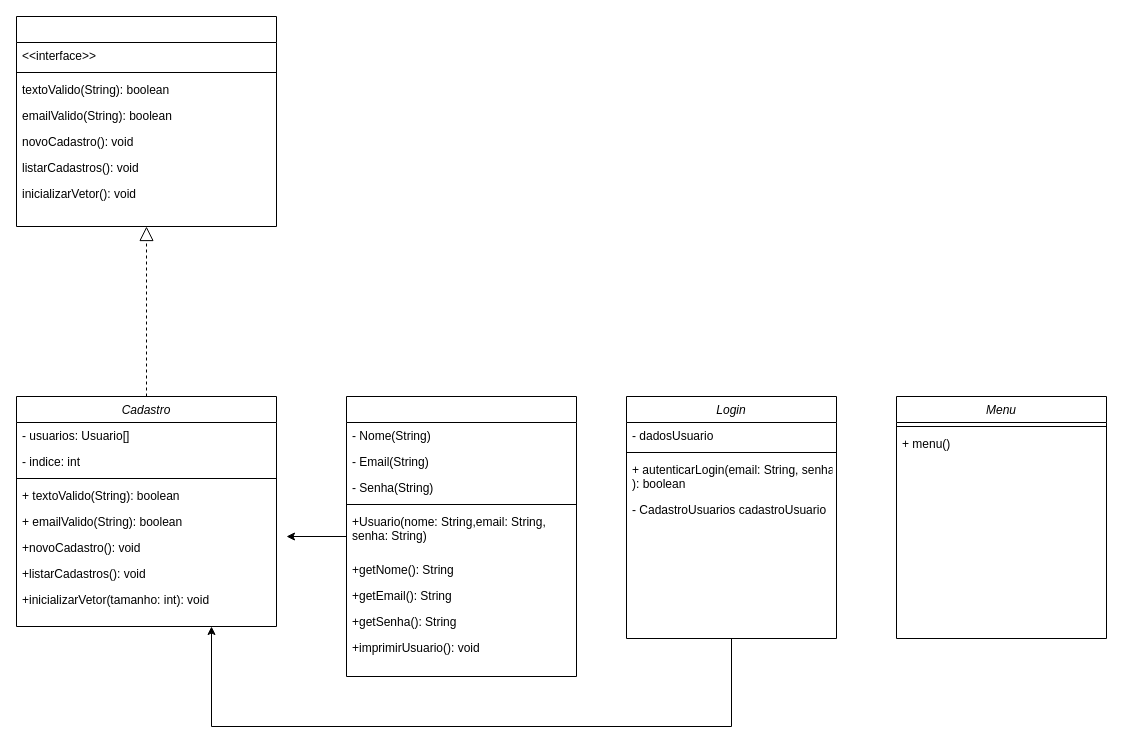
Some shapes in this 1123 by 743 pixel diagram are drawn without their labels. Here are the shapes that lost their labels. From the top down, the box of each, then its label:
(16, 16, 276, 226): InterfaceCadastroUsuario
(346, 396, 576, 676): Usuário
